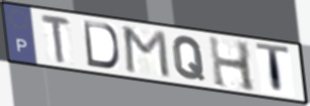D: (81, 19, 122, 70)
H: (206, 34, 258, 94)
M: (122, 25, 172, 80)
Q: (170, 34, 207, 82)
T: (254, 41, 292, 98), (38, 12, 73, 66)
